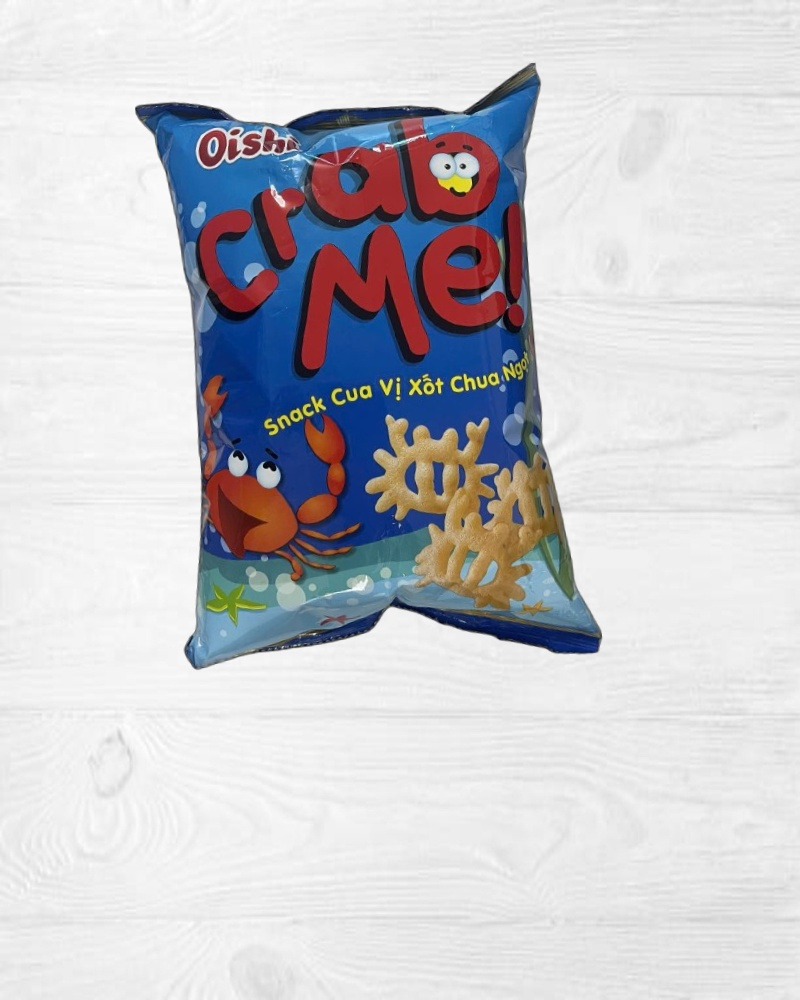Snack chay: (135, 62, 604, 690)
